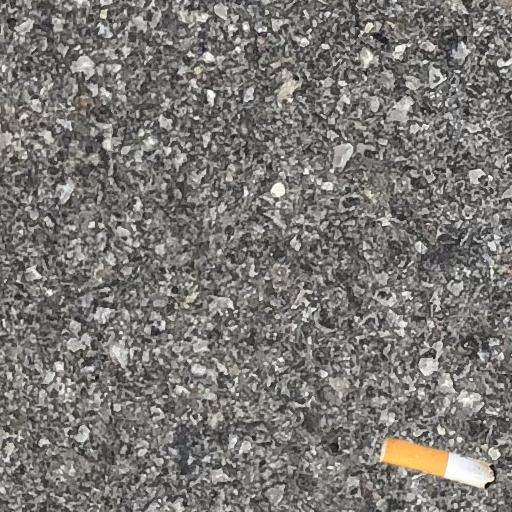smoke: (381, 438, 496, 488)
